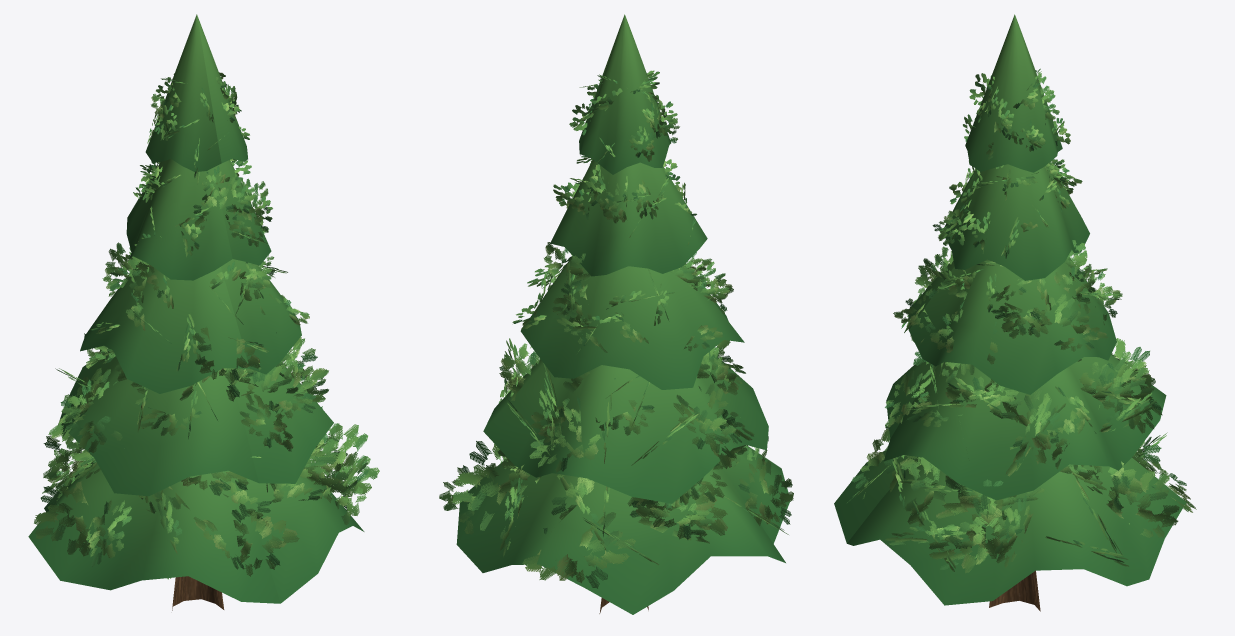
File: tree_pine_classic.glb
3 views of the same model, side by side, from view 1: azimuth 30°, elevation 25°; view 2: azimuth 150°, elevation 25°; view 3: azimuth 270°, elevation 25° (orthographic).
Parts seen in each view (by area): view 1: tree_pine, tree_pine_bark_Pine; view 2: tree_pine; view 3: tree_pine, tree_pine_bark_Pine.
Part boxes in pixels (<box>): tree_pine: <box>28,14,379,603</box>; tree_pine_bark_Pine: <box>172,576,224,610</box>; tree_pine: <box>439,14,793,614</box>; tree_pine: <box>834,14,1196,605</box>; tree_pine_bark_Pine: <box>989,570,1040,611</box>.
Bounding box in the file's own units: 6.58 × 11.48 × 6.73.
Materials: 3 (2 with a texture image).
